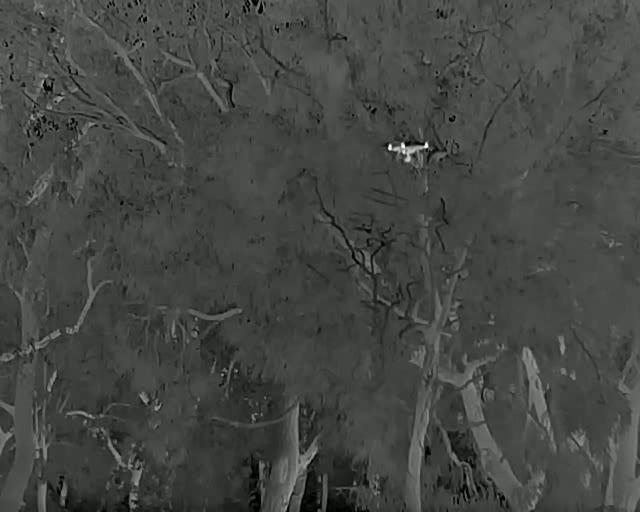DJI-Phantom: (387, 141, 429, 163)
